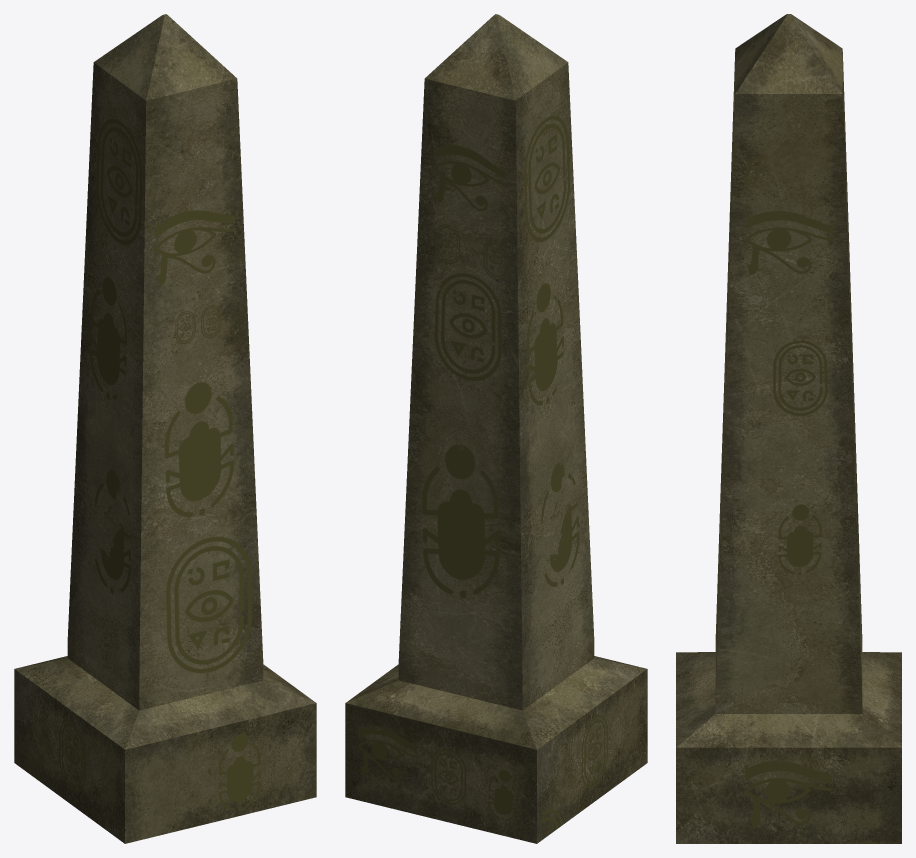
The model's file is obelisk.glb.
3 renders of one model, left to right at view 1: azimuth 30°, elevation 25°; view 2: azimuth 150°, elevation 25°; view 3: azimuth 270°, elevation 25°, orthographic. The views are drawn at different scales.
Visible parts, largest first — view 1: Cube; view 2: Cube; view 3: Cube.
Boxes of the visible parts, left/top/right/bottom form: Cube: left=14, top=14, right=316, bottom=843; Cube: left=345, top=14, right=647, bottom=843; Cube: left=676, top=14, right=901, bottom=843.
Bounding box in the file's own units: 139 × 529 × 139.
Materials: 1 (1 with a texture image).
